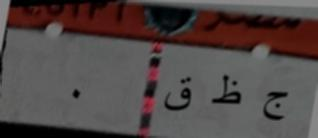0: (66, 81, 86, 110)
Thaa: (207, 68, 243, 112)
jeem: (258, 85, 292, 128)
qaaf: (163, 72, 197, 122)
